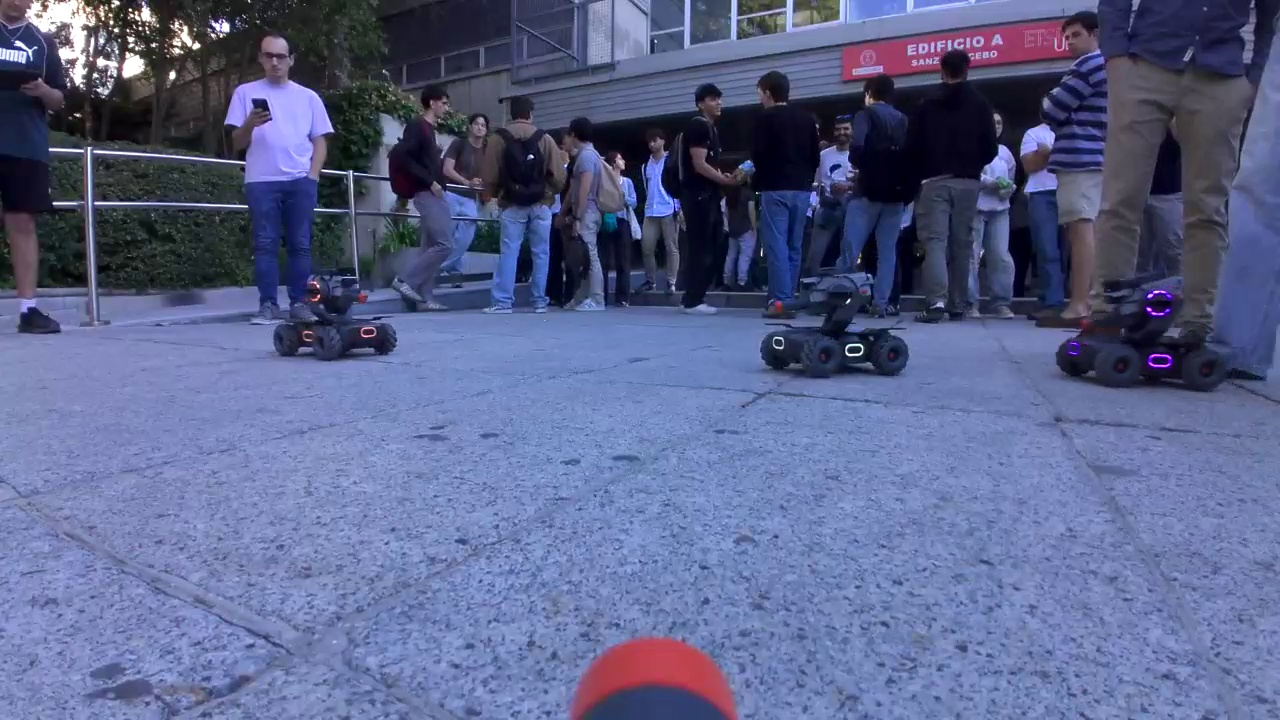robot: (1056, 270, 1228, 393), (759, 265, 910, 379), (273, 266, 397, 360)
